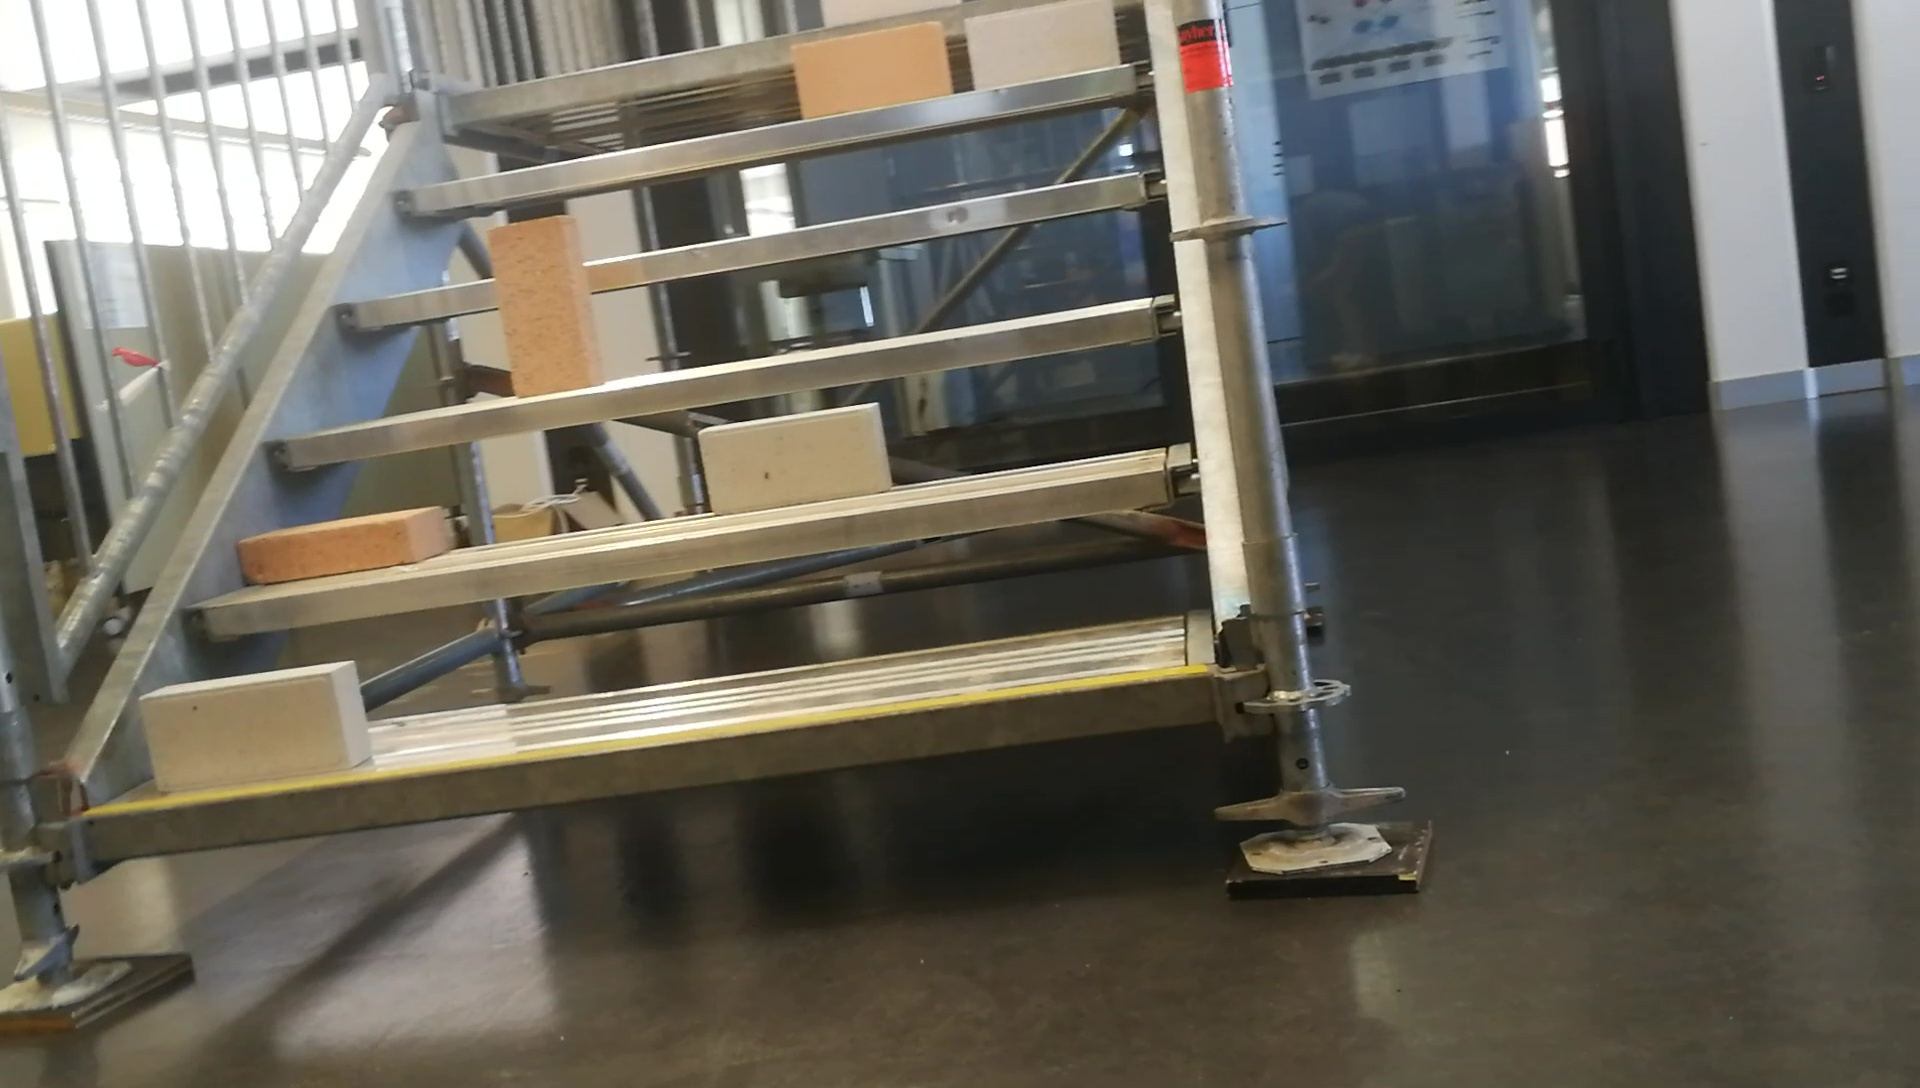brick: (142, 662, 369, 789), (698, 408, 887, 510), (492, 215, 592, 393), (243, 506, 448, 580), (790, 22, 948, 115), (967, 3, 1114, 83)
edge: (84, 673, 1209, 862), (189, 462, 1203, 634), (273, 305, 1180, 458), (343, 171, 1158, 332), (397, 66, 1158, 210)
stairs: (0, 0, 1414, 1041)
steps: (75, 5, 1222, 873)
